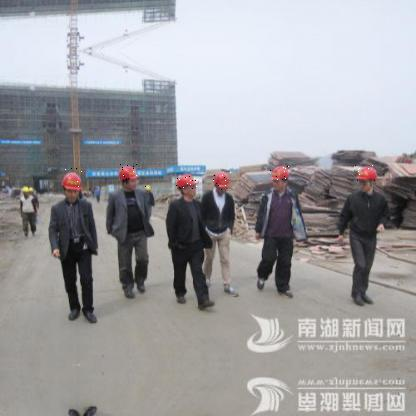safetyhelmet: (60, 168, 87, 191), (354, 166, 378, 186), (213, 172, 232, 192), (270, 164, 291, 182), (176, 174, 199, 190), (118, 164, 138, 182), (20, 184, 30, 192), (27, 186, 33, 194), (145, 184, 152, 188)
